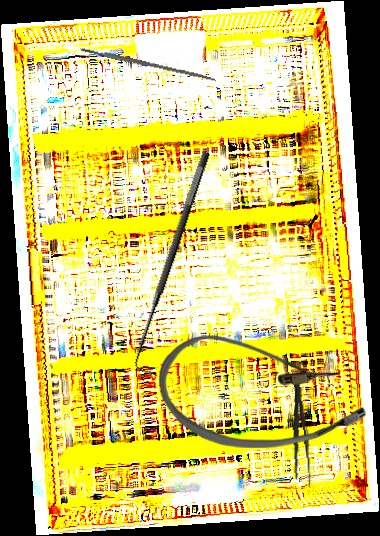Cannula: (159, 335, 366, 448)
Dressing Forceps: (287, 371, 314, 489)
Hook Surgical: (123, 149, 228, 379)
Scalpel Handle: (79, 45, 217, 83)
